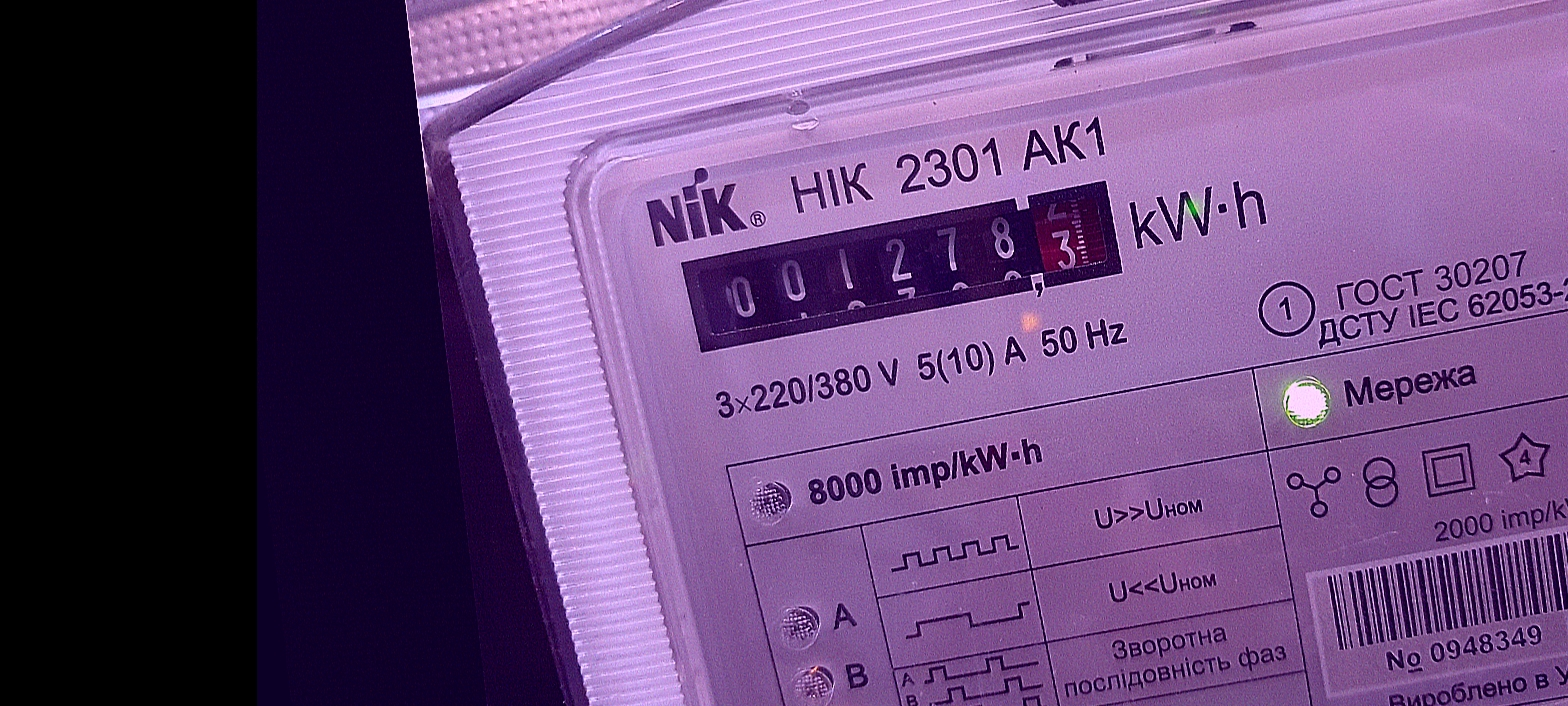0: (727, 271, 758, 321), (776, 256, 807, 305)
1: (833, 243, 857, 292)
2: (882, 235, 913, 285), (1042, 200, 1068, 222)
3: (1047, 226, 1079, 273)
7: (933, 225, 961, 274)
8: (987, 214, 1017, 261)
screen: (661, 166, 1144, 367)
